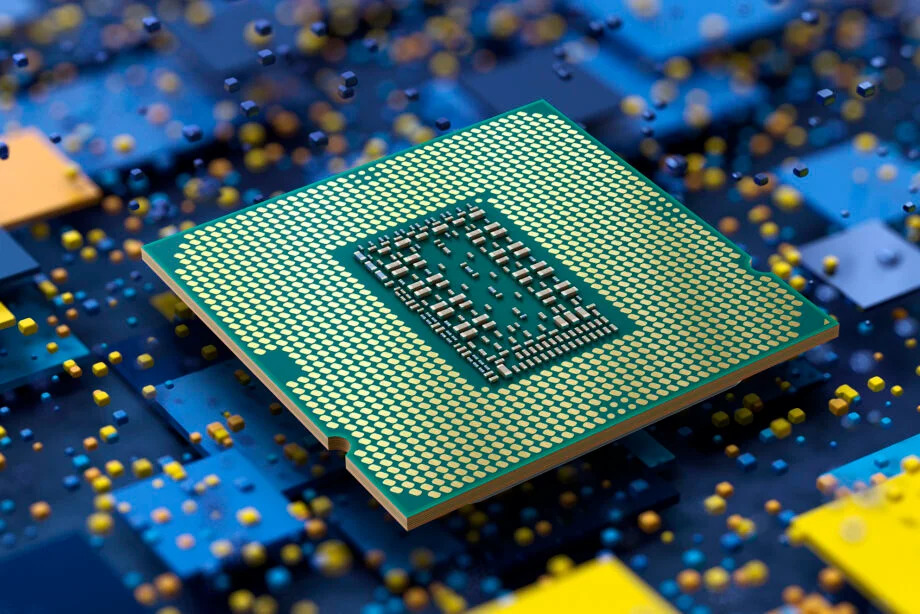processor: (141, 96, 840, 532)
